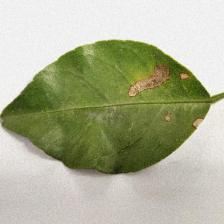canker: (107, 54, 207, 130)
